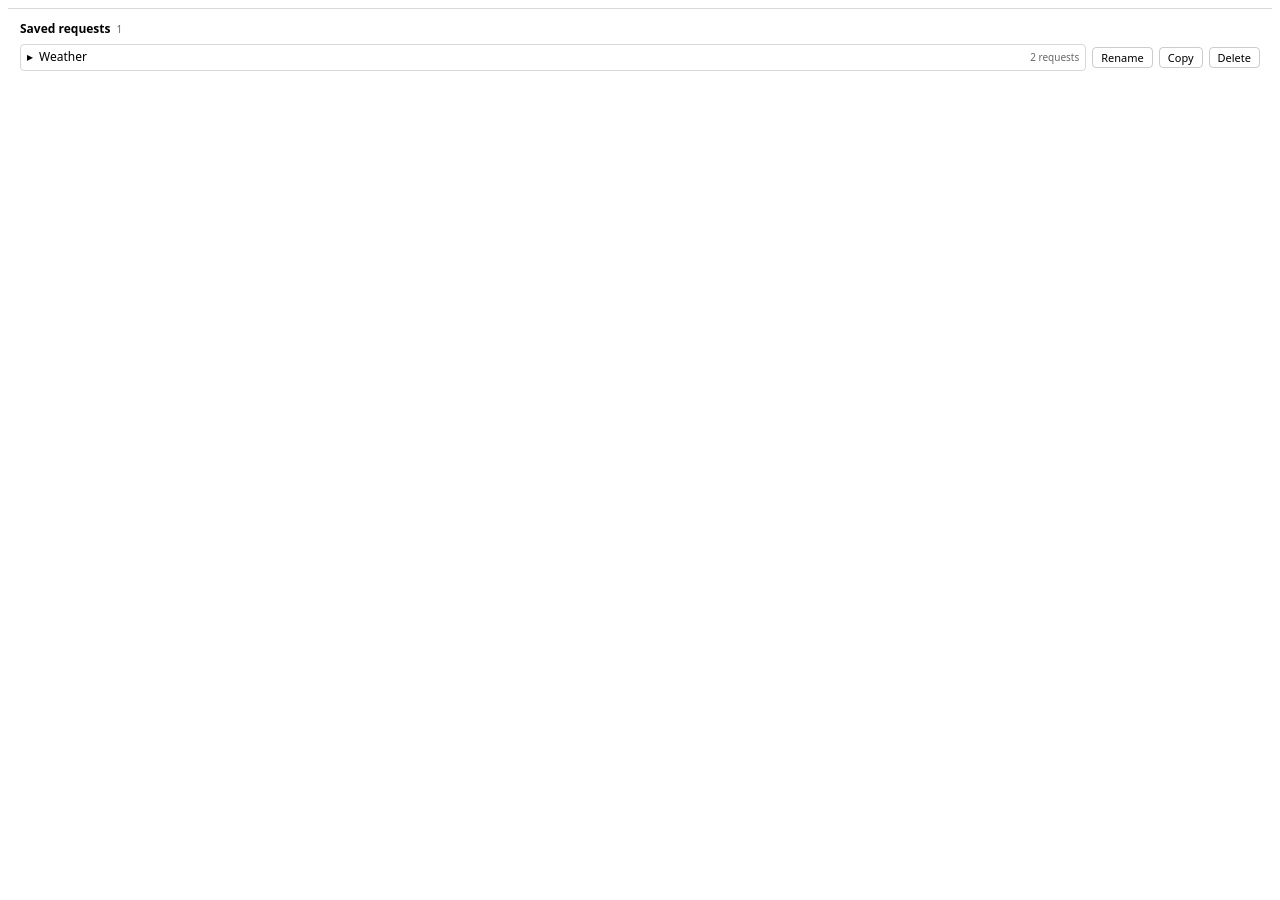
Scenario: CollectionTree delete, rename and copy › asks for a second click and explains what is deleted
The image size is (1280, 900).
expect the text "Weather" is shown: met, box [39, 48, 87, 65]
What coordinates should you click on to do the following:
click the button "Delete"
I would click on:
 (1234, 57)
Its box is [1208, 46, 1260, 68].
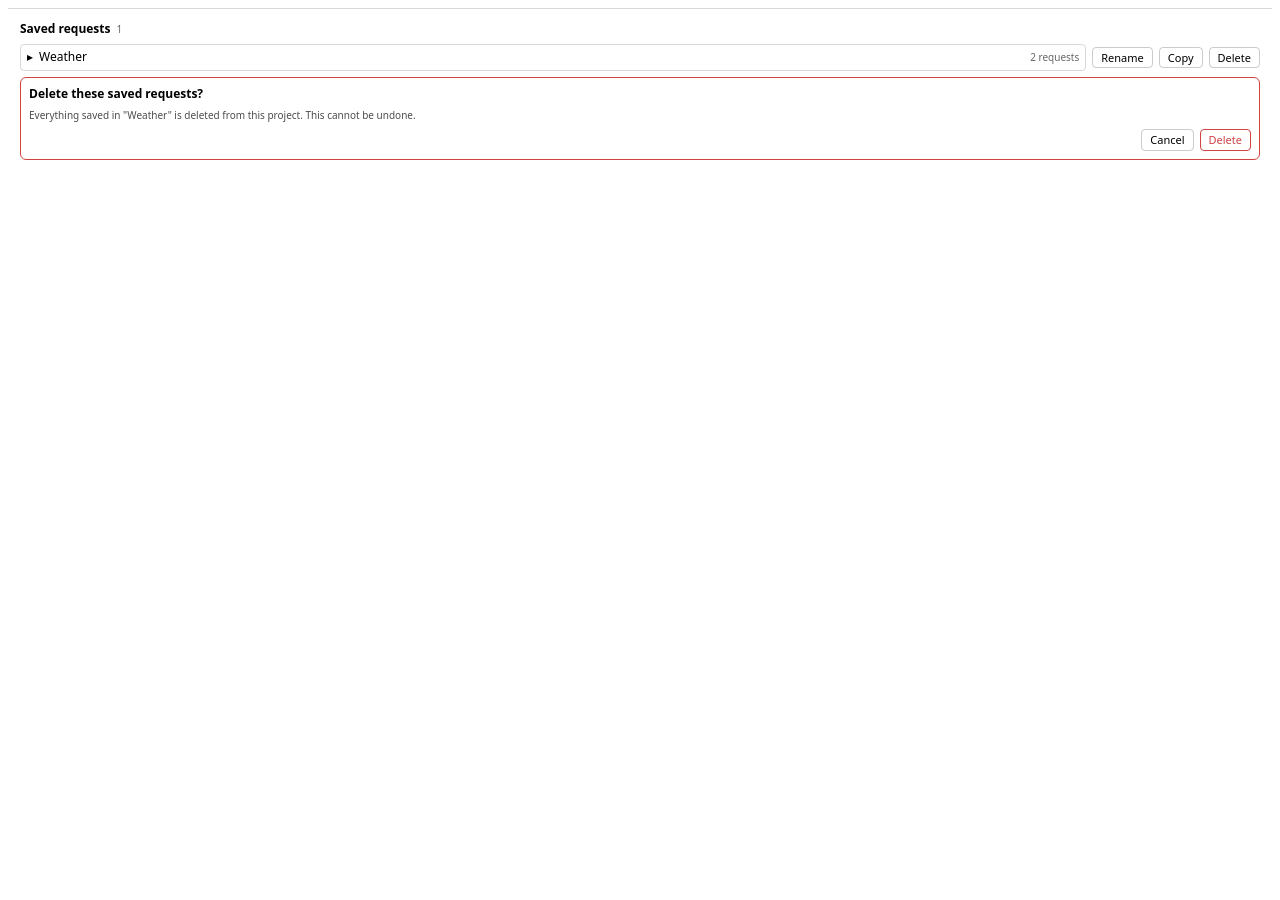
expect the dialog is shown: met, box [20, 77, 1260, 160]
expect the dialog shows "Delete these saved requests?": met, box [29, 85, 203, 102]
expect the dialog shows "Weather": met, box [29, 108, 416, 122]
What coordinates should you click on to do the following:
click the button "Cancel"
I would click on:
 (1167, 140)
Its box is [1141, 129, 1194, 151].
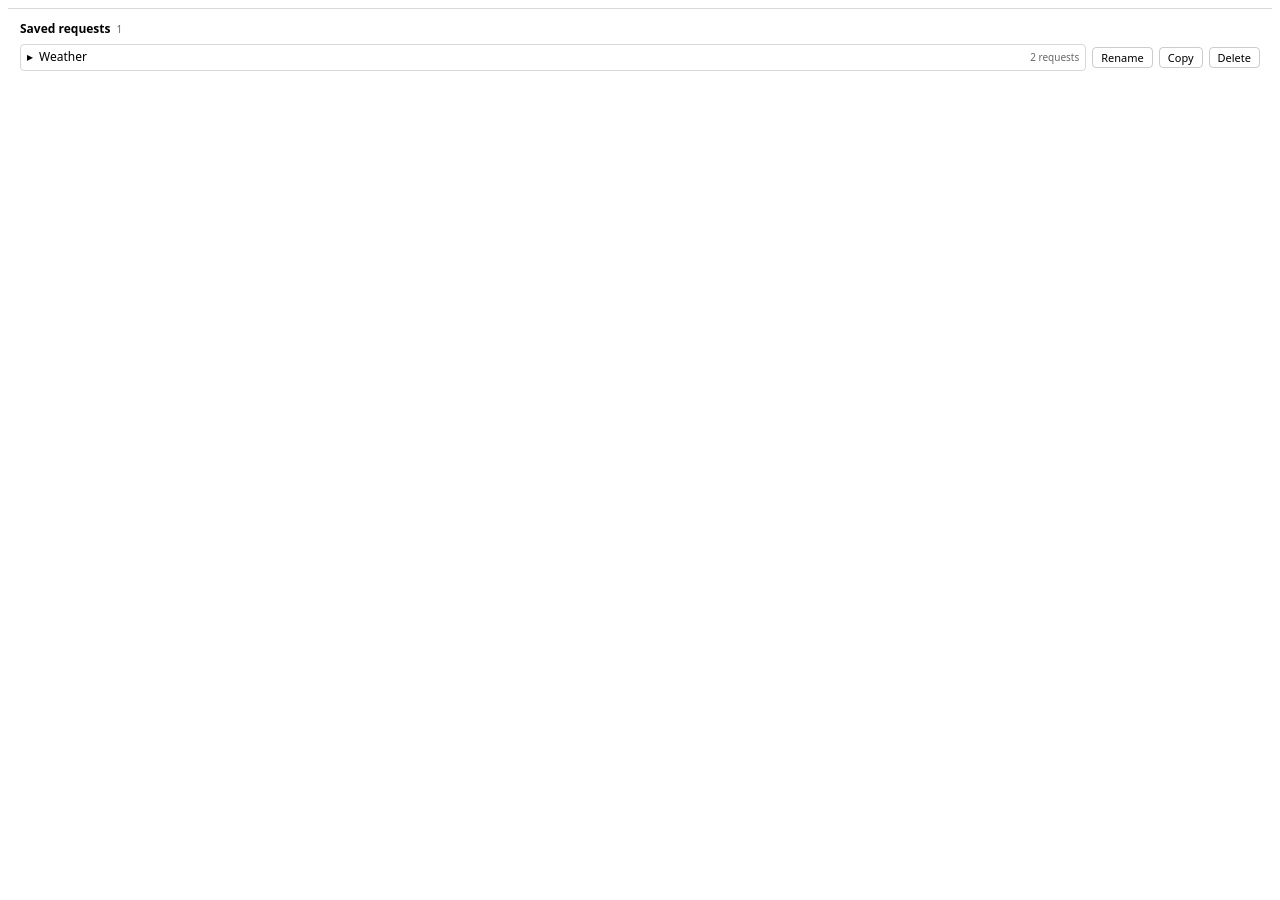
What coordinates should you click on to do the following:
click the button "Delete"
I would click on:
 (1234, 57)
Its box is [1208, 46, 1260, 68].
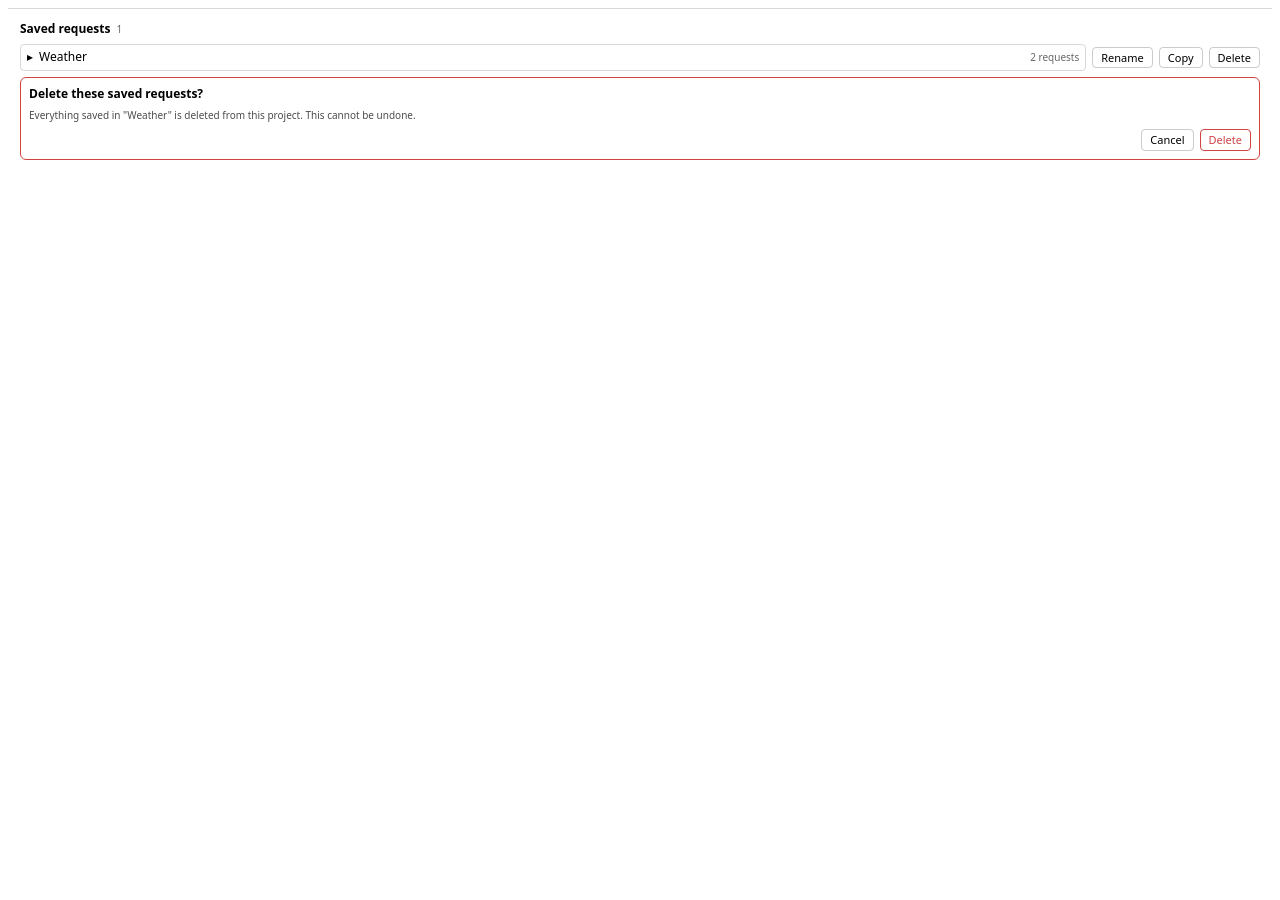
What coordinates should you click on to do the following:
click the 2nd button "Delete"
I would click on:
 (1225, 140)
Its box is [1200, 129, 1251, 151].
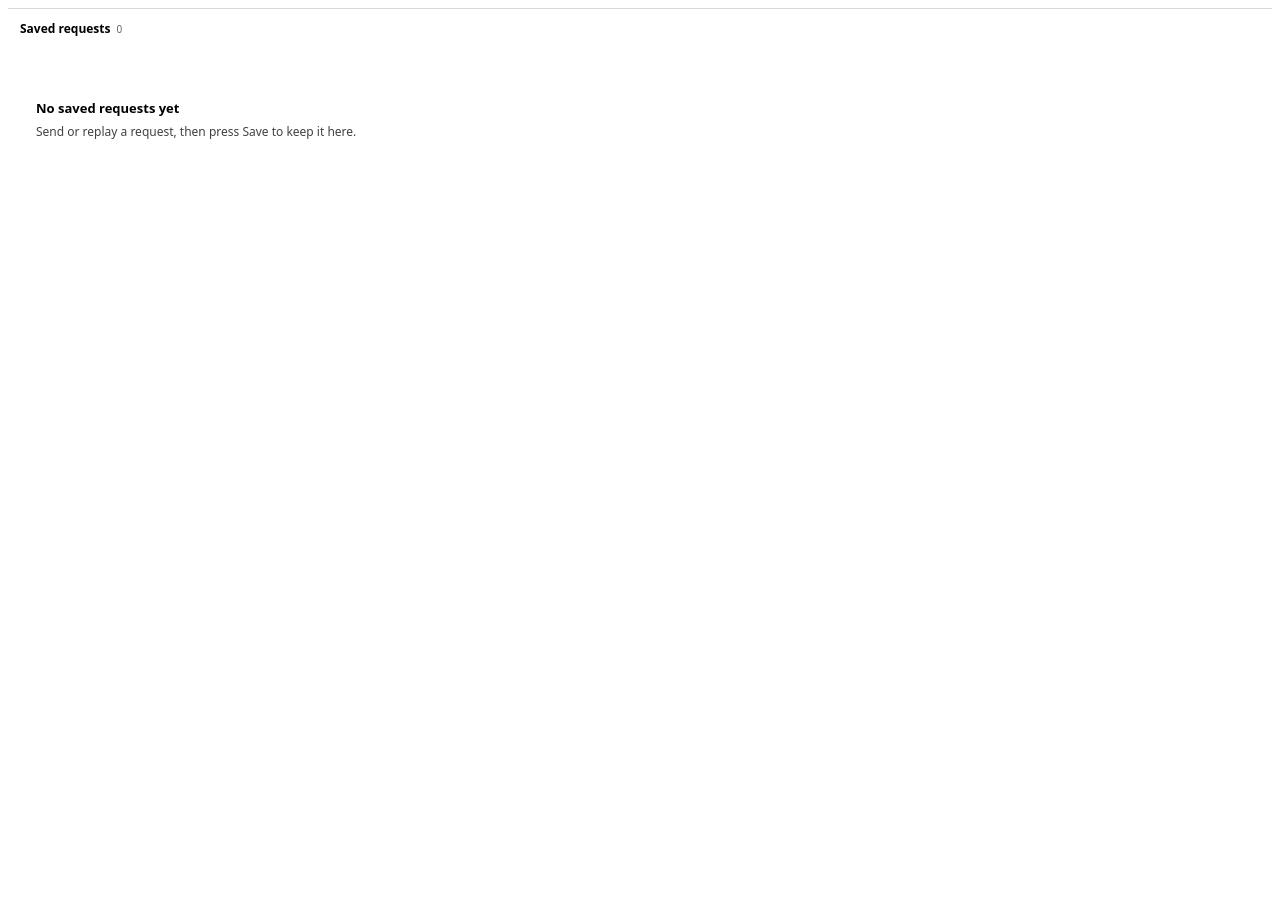
expect the heading "No saved requests yet" is shown: met, box [36, 99, 180, 117]
